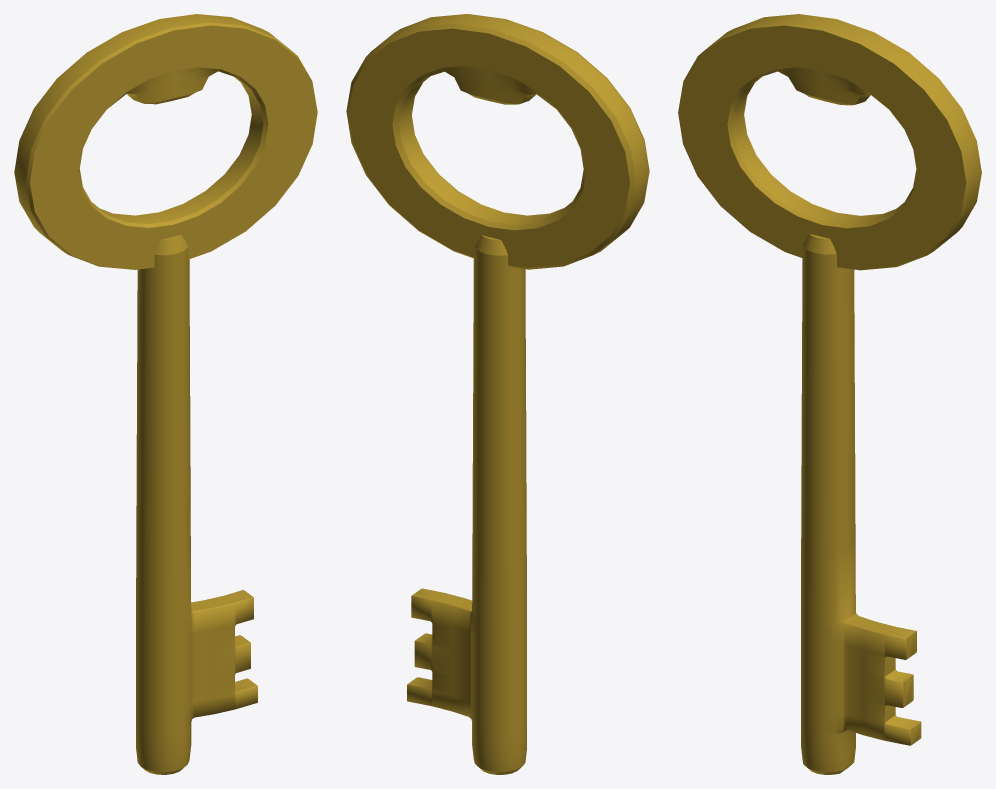
The model's file is Key.gltf.
The picture shows the model from 3 angles, left to right: view 1: azimuth 30°, elevation 25°; view 2: azimuth 150°, elevation 25°; view 3: azimuth 330°, elevation 25°; orthographic projection.
Visible parts, largest first — view 1: Key_01; view 2: Key_01; view 3: Key_01.
Boxes of the visible parts, x1,y1,x2,y2 form: Key_01: (14,14,317,774); Key_01: (346,14,649,774); Key_01: (678,14,981,774).
Bounding box in the file's own units: 0.8355 × 2.03 × 0.1352.
